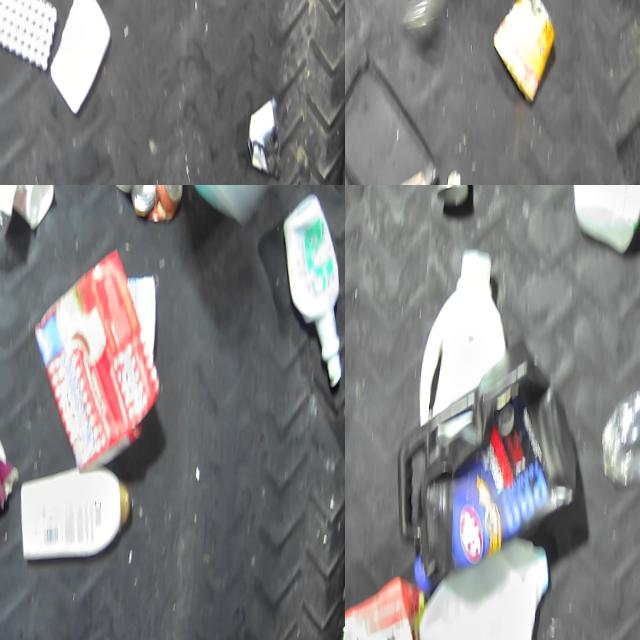can: (491, 0, 557, 98), (252, 91, 288, 179), (131, 185, 184, 219), (435, 185, 468, 205)
milk_jug: (420, 245, 509, 435), (418, 527, 552, 640), (567, 185, 640, 249)
non_white_jug: (396, 352, 581, 598), (345, 568, 428, 640), (0, 420, 21, 570)
plastic_bottle: (602, 367, 640, 488)
